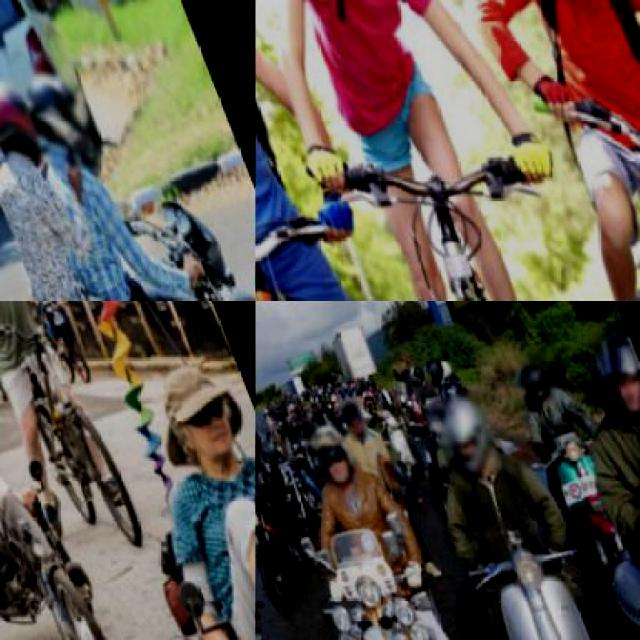With Helmet: (11, 44, 106, 178), (423, 381, 506, 484), (300, 410, 372, 504), (583, 316, 639, 424), (0, 63, 52, 172), (500, 341, 566, 413), (421, 348, 448, 387), (255, 417, 271, 463), (256, 439, 264, 483)
Without Helmet: (336, 392, 373, 445)
